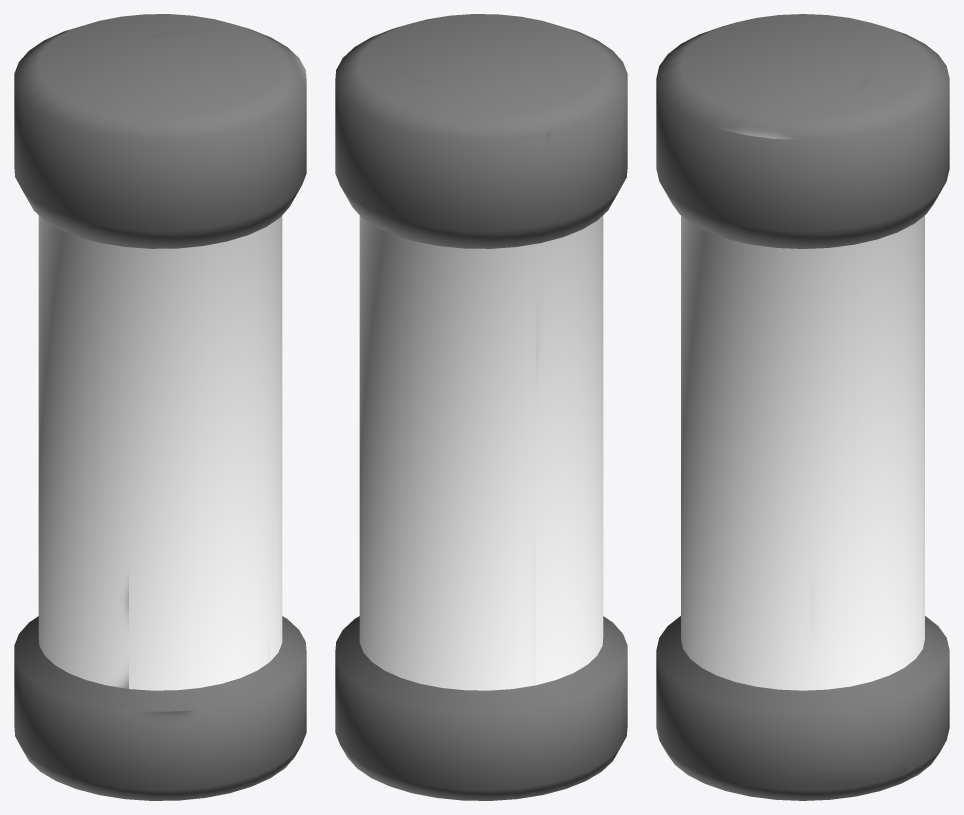
File: Fuse.fbx
The picture shows the model from 3 angles, left to right: view 1: azimuth 30°, elevation 25°; view 2: azimuth 150°, elevation 25°; view 3: azimuth 270°, elevation 25°; orthographic projection.
Parts seen in each view (by area): view 1: Fuse; view 2: Fuse; view 3: Fuse.
Boxes of the visible parts, <box> form: Fuse: <box>14,14,306,800</box>; Fuse: <box>335,14,627,800</box>; Fuse: <box>656,14,949,800</box>.
Size of the model in its own units: 24 by 61.14 by 24.
